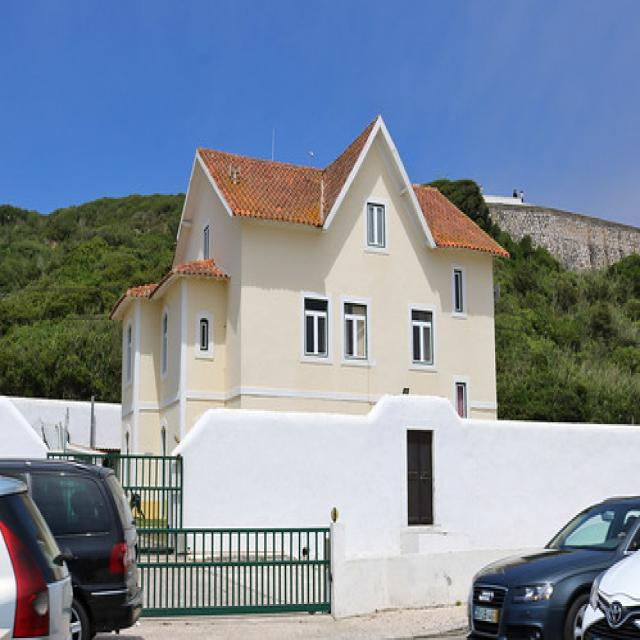building: (109, 111, 516, 546)
